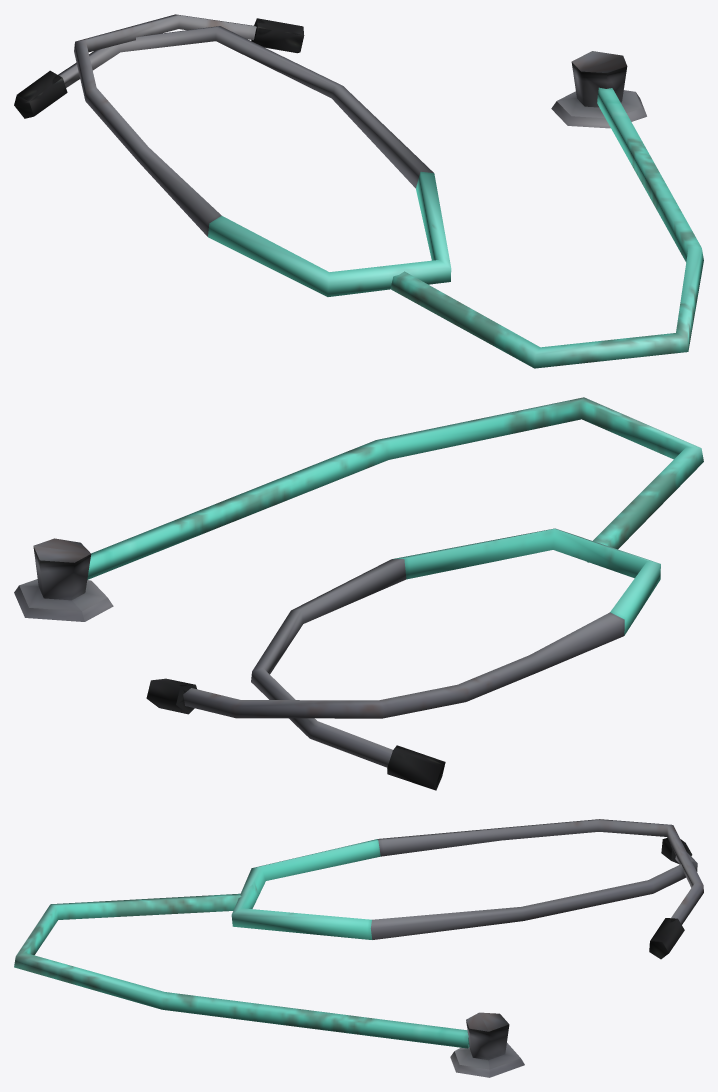
Rendered from Stetoscope.fbx.
3 renders of one model, top to bottom at view 1: azimuth 30°, elevation 25°; view 2: azimuth 150°, elevation 25°; view 3: azimuth 270°, elevation 25°, orthographic. The views are drawn at different scales.
Visible parts, largest first — view 1: Stetoscope; view 2: Stetoscope; view 3: Stetoscope.
Part boxes in pixels (box(x1,y1,x2,y2)): Stetoscope: box(14, 14, 703, 368); Stetoscope: box(14, 397, 703, 790); Stetoscope: box(14, 819, 703, 1077).
Bounding box in the file's own units: 0.2659 × 0.0438 × 0.3783.
